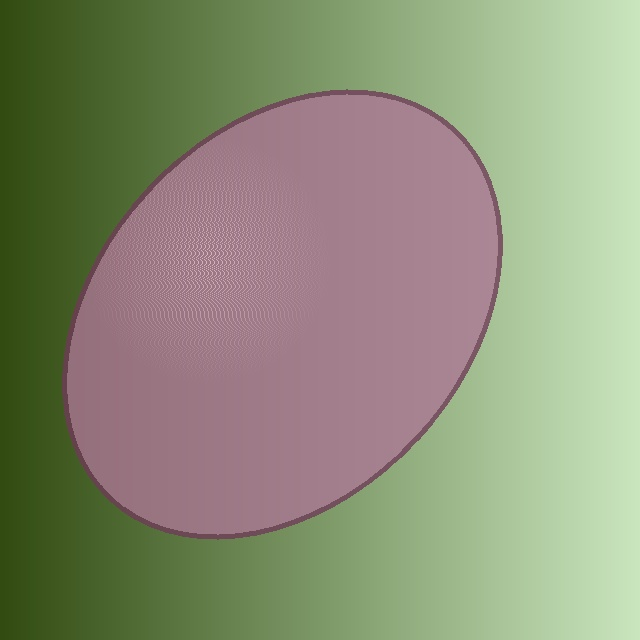lens: (66, 92, 498, 536)
